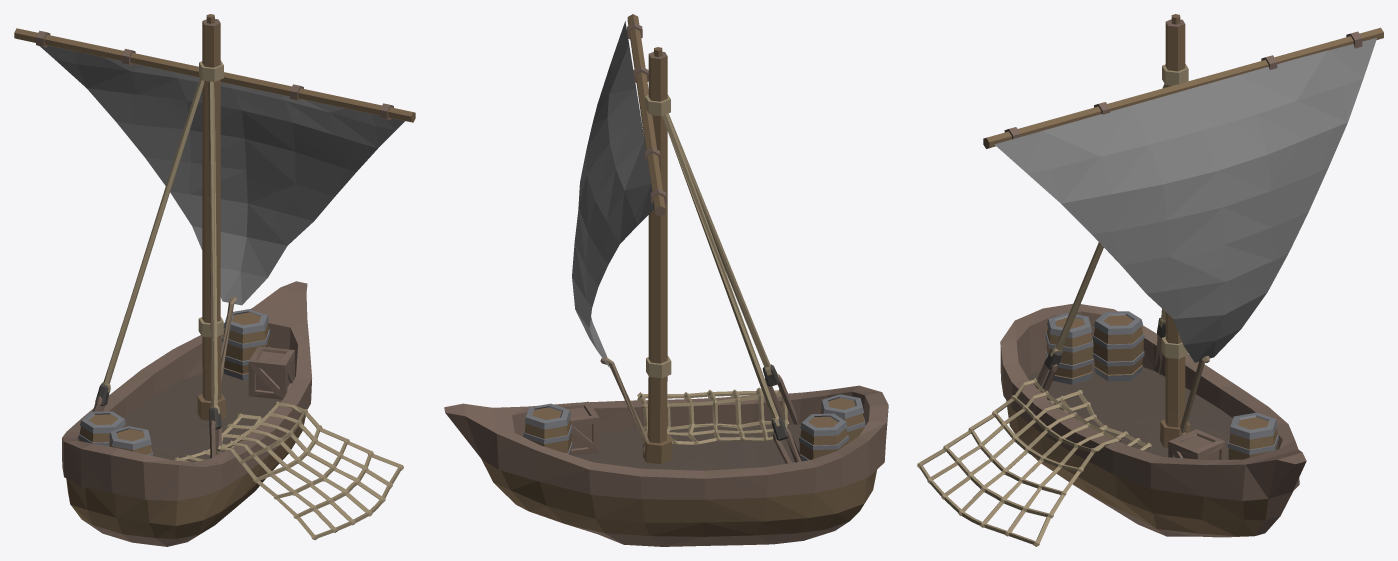
The model's file is helpfulFisher.fbx.
3 renders of one model, left to right at view 1: azimuth 30°, elevation 25°; view 2: azimuth 150°, elevation 25°; view 3: azimuth 270°, elevation 25°, orthographic. The views are drawn at different scales.
Parts seen in each view (by area): view 1: helpfulFisher; view 2: helpfulFisher; view 3: helpfulFisher.
Part boxes in pixels (x1=…): helpfulFisher: x1=14, y1=14, x2=415, y2=546; helpfulFisher: x1=444, y1=14, x2=888, y2=546; helpfulFisher: x1=917, y1=14, x2=1383, y2=546.
Bounding box in the file's own units: 2.87 × 3.89 × 3.3.
